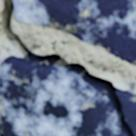brick: (14, 0, 135, 65)
broken_brick: (0, 56, 126, 135), (116, 88, 135, 135)
crack: (0, 0, 134, 135)
